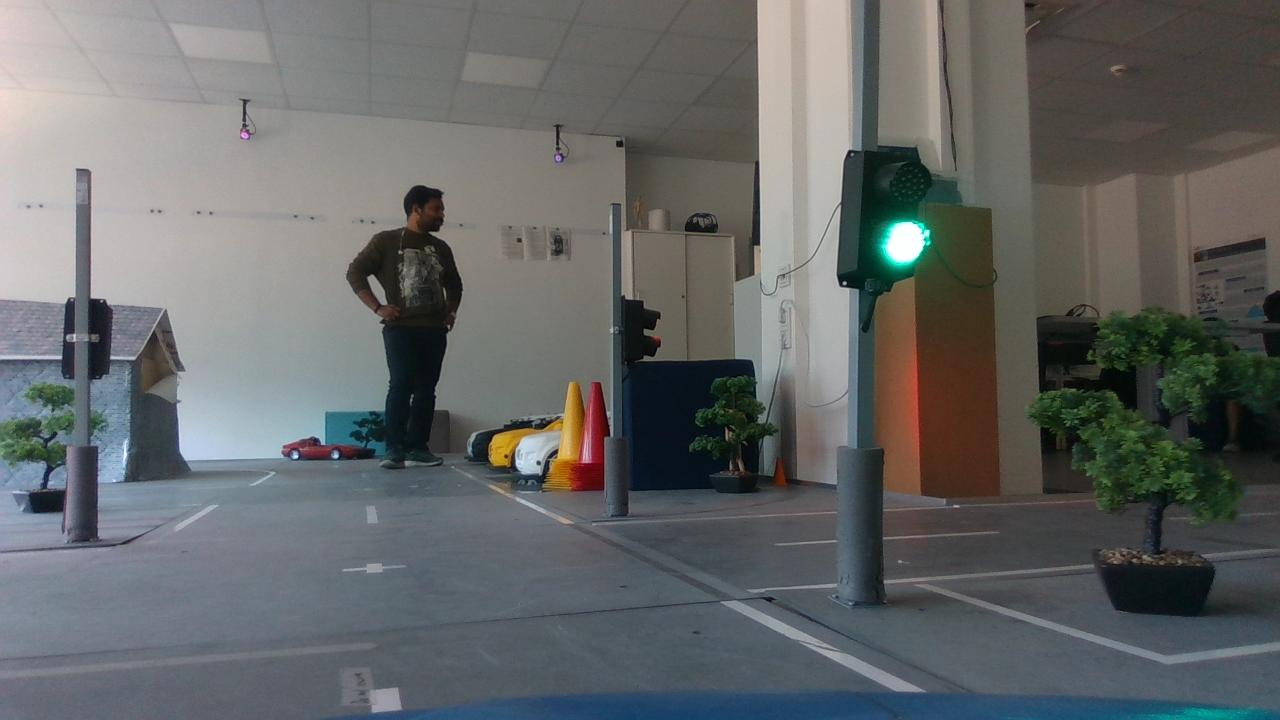traffic_light_green: (825, 134, 942, 300)
